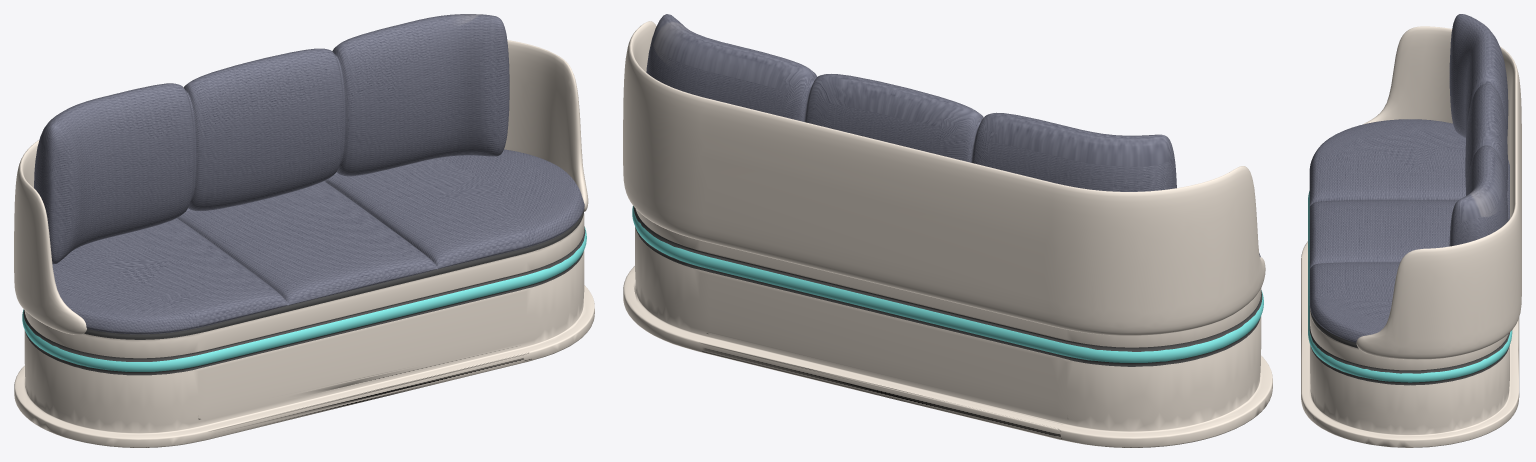
The model's file is sillon.obj.
3 views of the same model, side by side, from view 1: azimuth 30°, elevation 25°; view 2: azimuth 150°, elevation 25°; view 3: azimuth 270°, elevation 25° (orthographic). The views are drawn at different scales.
Parts seen in each view (by area): view 1: Banca; view 2: Banca; view 3: Banca.
Boxes of the visible parts, x1,y1,x2,y2 form: Banca: (14,14,594,447); Banca: (623,14,1272,447); Banca: (1301,14,1521,447).
Bounding box in the file's own units: 4.99 × 2.3 × 2.03.
